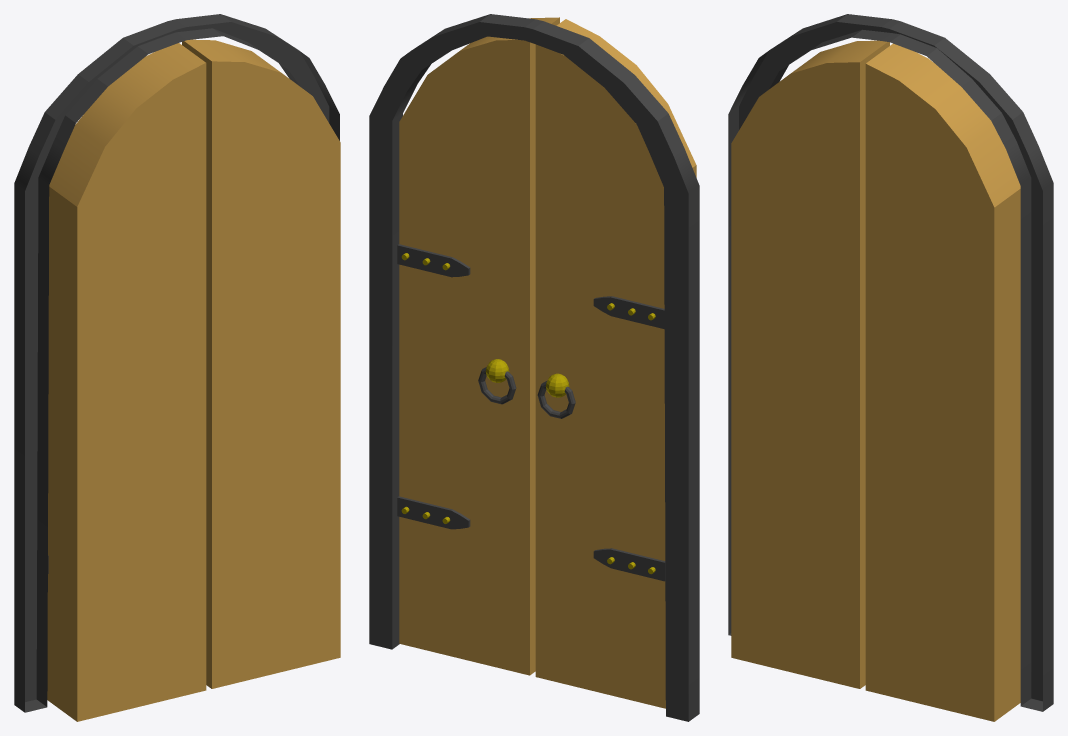
The model's file is Deur_Kerk.fbx.
The picture shows the model from 3 angles, left to right: view 1: azimuth 30°, elevation 25°; view 2: azimuth 150°, elevation 25°; view 3: azimuth 330°, elevation 25°; orthographic projection.
Parts seen in each view (by area): view 1: Deur; view 2: Deur; view 3: Deur.
Part boxes in pixels (x1,y1,x2,y2): Deur: (14,14,340,721); Deur: (369,14,699,721); Deur: (728,14,1053,721).
Size of the model in its own units: 3.07 by 6.02 by 0.6374.
